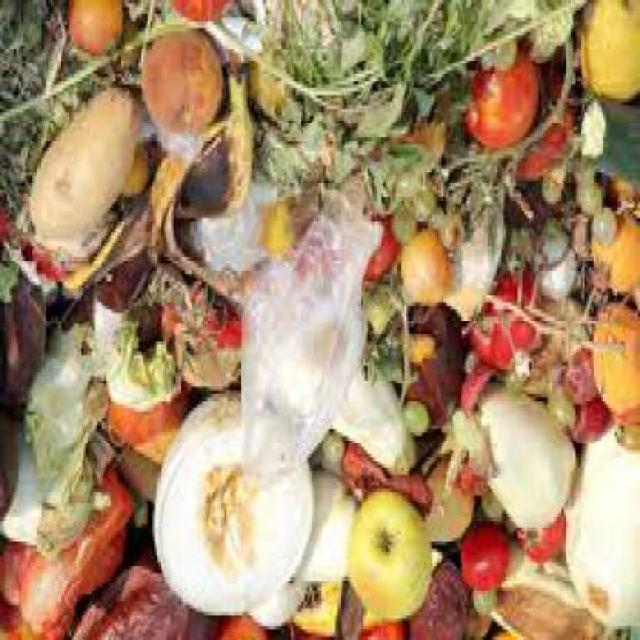BIODEGRADABLE: (254, 3, 580, 194), (60, 63, 252, 306), (150, 398, 312, 622), (0, 461, 142, 639), (25, 88, 141, 249), (23, 320, 106, 503), (564, 430, 638, 632), (474, 387, 575, 535), (490, 547, 638, 640), (1, 426, 99, 560), (66, 556, 220, 638), (23, 3, 100, 148), (347, 493, 430, 622), (157, 285, 240, 397), (138, 35, 224, 137), (400, 302, 465, 436), (446, 179, 506, 324), (462, 42, 538, 155), (0, 3, 37, 235), (462, 275, 541, 376), (513, 66, 575, 183), (219, 4, 344, 59), (570, 4, 638, 105), (130, 264, 219, 341), (338, 447, 430, 521), (99, 387, 187, 464), (289, 479, 354, 583), (33, 464, 104, 559), (1, 260, 44, 414), (412, 559, 490, 639), (500, 542, 582, 616), (434, 412, 494, 513), (588, 306, 638, 416), (578, 105, 638, 190), (111, 342, 178, 418), (395, 229, 453, 309), (422, 461, 472, 548), (587, 218, 638, 296), (393, 112, 444, 180), (504, 183, 574, 232), (92, 299, 130, 387), (111, 447, 164, 510), (65, 4, 123, 59), (245, 584, 307, 633), (454, 531, 504, 591), (358, 270, 402, 338), (497, 358, 561, 404), (289, 584, 342, 639), (361, 327, 407, 390), (247, 60, 293, 123), (358, 218, 396, 292), (514, 517, 564, 569), (566, 398, 609, 450), (534, 257, 575, 306), (118, 145, 154, 200), (559, 355, 596, 408), (552, 306, 592, 352), (532, 225, 566, 278), (1, 418, 16, 528), (458, 366, 490, 414), (455, 457, 488, 500), (337, 586, 363, 639), (545, 390, 573, 439), (168, 3, 228, 25), (503, 236, 534, 278), (409, 182, 437, 228), (214, 618, 274, 638), (358, 616, 411, 638), (389, 207, 416, 250), (582, 264, 606, 310), (612, 414, 637, 458), (587, 211, 615, 249), (400, 405, 428, 443), (465, 594, 489, 638), (571, 190, 603, 218), (437, 215, 460, 253), (478, 492, 502, 528), (568, 221, 587, 264), (469, 592, 494, 622), (538, 176, 562, 207), (407, 338, 431, 368), (1, 264, 16, 310), (317, 436, 341, 464), (508, 359, 532, 383), (573, 165, 592, 183), (316, 464, 338, 478), (305, 453, 321, 472), (488, 633, 510, 639)
